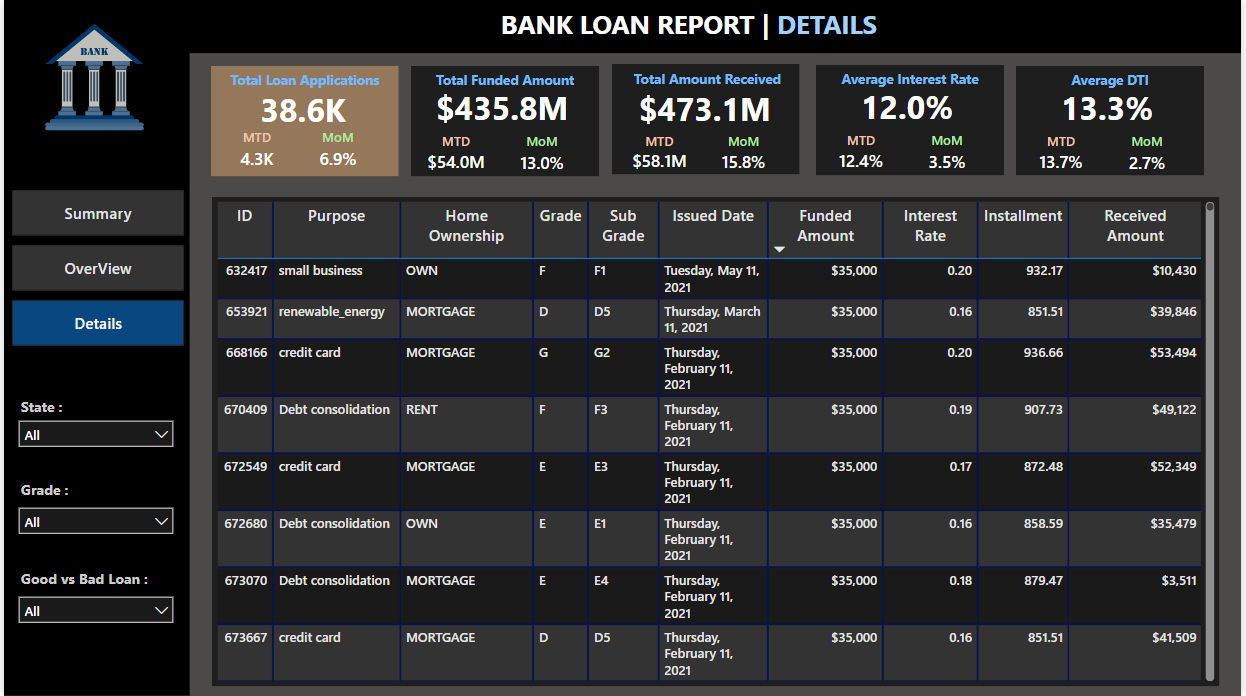

Layout of this report page (visuals, bound fields, positions):
{"tool":"powerbi","page":{"name":"Details","canvas":[1280,720],"ordinal":2},"visuals":[{"type":"shape","box":[629.2,66.4,193.8,114.2],"z":0,"group":"g3"},{"type":"shape","box":[839.7,67.5,194.5,114],"z":0,"group":"g4"},{"type":"shape","box":[214.3,68.6,194.3,114.3],"z":0,"group":"g1"},{"type":"shape","box":[421.4,68.6,194.5,114],"z":0,"group":"g2"},{"type":"shape","box":[1047.1,68.6,194.5,113.1],"z":0,"group":"g5"},{"type":"shape","box":[214.7,203.7,1041.9,506.5],"z":0},{"type":"shape","box":[0,0,1280,55],"z":1000},{"type":"card","fields":{"Values":["table_measures.avg_interest_rate"]},"box":[851.5,82.1,165.9,58.4],"z":1000,"group":"g4"},{"type":"card","fields":{"Values":["table_measures.avg_DTI"]},"box":[1058.9,83.1,165.9,57.9],"z":1000,"group":"g5"},{"type":"card","fields":{"Values":["table_measures.total_loan_appl"]},"box":[247.2,83.2,124.3,61.3],"z":1000,"group":"g1"},{"type":"card","fields":{"Values":["table_measures.total_funded_amt"]},"box":[433.2,83.2,165.9,58.4],"z":1000,"group":"g2"},{"type":"card","fields":{"Values":["table_measures.total_received_amt"]},"box":[643.2,85.3,163.1,55.8],"z":1000,"group":"g3"},{"type":"shape","box":[0,55.1,192,664.8],"z":2000},{"type":"textbox","box":[632.2,67,191,41.6],"z":2000,"group":"g3"},{"type":"textbox","box":[839.7,67.5,194.5,38.9],"z":2000,"group":"g4"},{"type":"textbox","box":[214.3,68.6,194.3,39],"z":2000,"group":"g1"},{"type":"textbox","box":[421.4,68.6,194.5,38.9],"z":2000,"group":"g2"},{"type":"textbox","box":[1047.1,68.6,194.5,38.6],"z":2000,"group":"g5"},{"type":"card","title":"MTD","fields":{"Values":["table_measures.MTD_loan_appl"]},"box":[235.7,132.7,51.4,50.2],"z":3000,"group":"g1"},{"type":"card","title":"MTD","fields":{"Values":["table_measures.MTD_interest_rate"]},"box":[851.5,136.3,70.1,48.6],"z":3000,"group":"g4"},{"type":"card","title":"MTD","fields":{"Values":["table_measures.MTD_avg_DTI"]},"box":[1058.9,136.9,70.1,48.3],"z":3000,"group":"g5"},{"type":"card","title":"MTD","fields":{"Values":["table_measures.MTD_received_amt"]},"box":[643.2,137.1,68.9,46.5],"z":3000,"group":"g3"},{"type":"card","title":"MTD","fields":{"Values":["table_measures.MTD_funded_amt"]},"box":[433.2,137.4,70.1,48.6],"z":3000,"group":"g2"},{"type":"textbox","box":[12.4,406,119.7,38.5],"z":3000},{"type":"textbox","box":[509.2,1.4,447.3,49.5],"z":4000},{"type":"card","title":"MoM","fields":{"Values":["table_measures.MOM_loan_appl"]},"box":[320,132.7,51.4,50.2],"z":4000,"group":"g1"},{"type":"card","title":"MoM","fields":{"Values":["table_measures.MOM_interest_rate"]},"box":[946.6,136.1,57.8,49.7],"z":4000,"group":"g4"},{"type":"card","title":"MoM","fields":{"Values":["table_measures.MOM_avg_DTI"]},"box":[1154,136.7,57.8,49.3],"z":4000,"group":"g5"},{"type":"card","title":"MoM","fields":{"Values":["table_measures.MOM_received_amt"]},"box":[736.7,136.9,56.8,47.5],"z":4000,"group":"g3"},{"type":"card","title":"MoM","fields":{"Values":["table_measures.MOM_funded_amt"]},"box":[528.3,137.2,57.8,49.7],"z":4000,"group":"g2"},{"type":"group","id":"g1","title":"Group 1","box":[214.3,68.6,194.3,114.3],"z":5000},{"type":"group","id":"g2","title":"Group 1","box":[421.4,68.6,194.3,118],"z":6000},{"type":"group","id":"g3","title":"Group 1","box":[629.2,66.4,194,118],"z":7000},{"type":"group","id":"g4","title":"Group 1","box":[839.7,67.5,194.5,118.2],"z":8000},{"type":"group","id":"g5","title":"Group 1","box":[1047.1,68.6,194.3,117.1],"z":9000},{"type":"slicer","fields":{"Values":["financial_loan.address_state"]},"box":[5.5,425.3,180.3,50.9],"z":10000},{"type":"slicer","fields":{"Values":["financial_loan.grade"]},"box":[5.5,514.8,180.3,50.9],"z":11000},{"type":"textbox","box":[12.4,491.4,119.7,38.5],"z":12000},{"type":"slicer","fields":{"Values":["financial_loan.Good vs Band Loan"]},"box":[5.5,607,180.3,50.9],"z":13000},{"type":"textbox","box":[12.4,583.6,163.8,38.5],"z":14000},{"type":"tableEx","fields":{"Values":["financial_loan.id","financial_loan.purpose","financial_loan.home_ownership","financial_loan.grade","financial_loan.sub_grade","financial_loan.issue_date","table_measures.total_funded_amt","Sum(financial_loan.int_rate)","Sum(financial_loan.installment)","table_measures.total_received_amt"]},"box":[214.7,203.7,1041.9,506.5],"z":15000},{"type":"pageNavigator","box":[8.3,196.8,178.9,163.8],"z":16000},{"type":"image","box":[0,1.4,187.2,156.9],"z":17000}]}

Visuals, with their boxes in screenshot pixels (x1, y1, x2, y2), scaled from the page's 1280x720 canvas onto the 1246x696 screenshot:
shape: [x1=612, y1=64, x2=801, y2=175]
shape: [x1=817, y1=65, x2=1007, y2=175]
shape: [x1=209, y1=66, x2=398, y2=177]
shape: [x1=410, y1=66, x2=600, y2=177]
shape: [x1=1019, y1=66, x2=1209, y2=176]
shape: [x1=209, y1=197, x2=1223, y2=687]
shape: [x1=0, y1=0, x2=1245, y2=53]
card - table_measures.avg_interest_rate: [x1=829, y1=79, x2=990, y2=136]
card - table_measures.avg_DTI: [x1=1031, y1=80, x2=1192, y2=136]
card - table_measures.total_loan_appl: [x1=241, y1=80, x2=362, y2=140]
card - table_measures.total_funded_amt: [x1=422, y1=80, x2=583, y2=137]
card - table_measures.total_received_amt: [x1=626, y1=82, x2=785, y2=136]
shape: [x1=0, y1=53, x2=187, y2=695]
textbox: [x1=615, y1=65, x2=801, y2=105]
textbox: [x1=817, y1=65, x2=1007, y2=103]
textbox: [x1=209, y1=66, x2=398, y2=104]
textbox: [x1=410, y1=66, x2=600, y2=104]
textbox: [x1=1019, y1=66, x2=1209, y2=104]
"MTD" card: [x1=229, y1=128, x2=279, y2=177]
"MTD" card: [x1=829, y1=132, x2=897, y2=179]
"MTD" card: [x1=1031, y1=132, x2=1099, y2=179]
"MTD" card: [x1=626, y1=133, x2=693, y2=177]
"MTD" card: [x1=422, y1=133, x2=490, y2=180]
textbox: [x1=12, y1=392, x2=129, y2=430]
textbox: [x1=496, y1=1, x2=931, y2=49]
"MoM" card: [x1=312, y1=128, x2=362, y2=177]
"MoM" card: [x1=921, y1=132, x2=978, y2=180]
"MoM" card: [x1=1123, y1=132, x2=1180, y2=180]
"MoM" card: [x1=717, y1=132, x2=772, y2=178]
"MoM" card: [x1=514, y1=133, x2=571, y2=181]
"Group 1" group: [x1=209, y1=66, x2=398, y2=177]
"Group 1" group: [x1=410, y1=66, x2=599, y2=180]
"Group 1" group: [x1=612, y1=64, x2=801, y2=178]
"Group 1" group: [x1=817, y1=65, x2=1007, y2=180]
"Group 1" group: [x1=1019, y1=66, x2=1208, y2=180]
slicer - financial_loan.address_state: [x1=5, y1=411, x2=181, y2=460]
slicer - financial_loan.grade: [x1=5, y1=498, x2=181, y2=547]
textbox: [x1=12, y1=475, x2=129, y2=512]
slicer - financial_loan.Good vs Band Loan: [x1=5, y1=587, x2=181, y2=636]
textbox: [x1=12, y1=564, x2=172, y2=601]
tableEx - financial_loan.id x financial_loan.purpose: [x1=209, y1=197, x2=1223, y2=687]
pageNavigator: [x1=8, y1=190, x2=182, y2=349]
image: [x1=0, y1=1, x2=182, y2=153]
